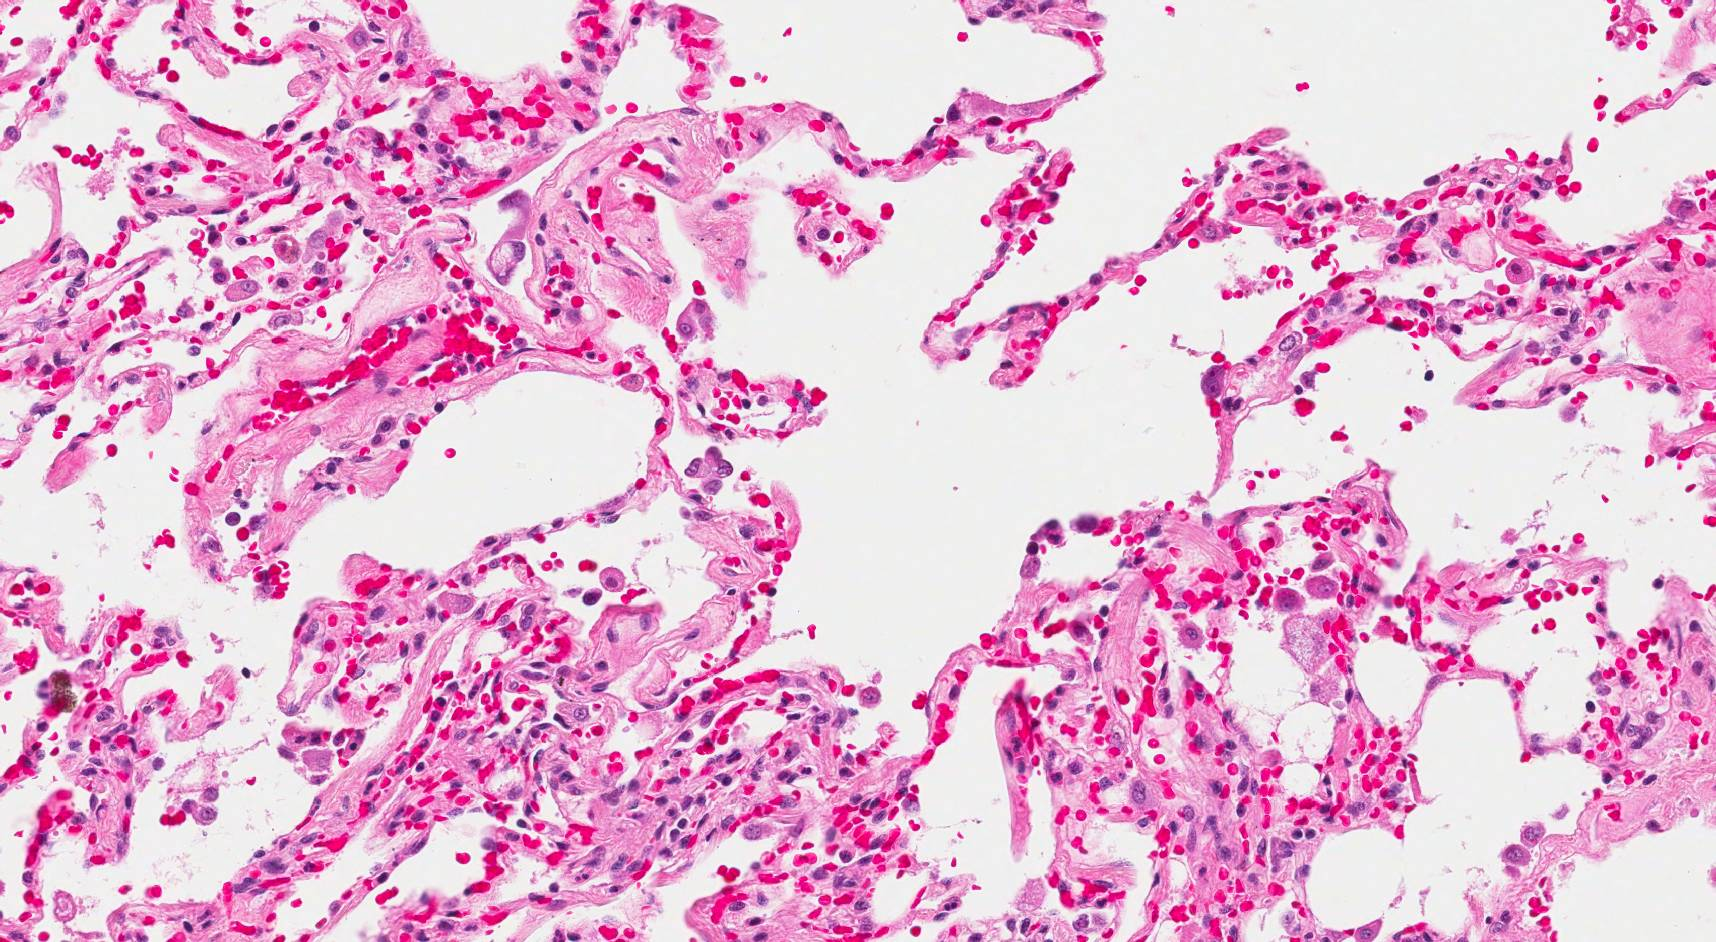stas: (477, 185, 534, 283), (682, 443, 735, 498)
